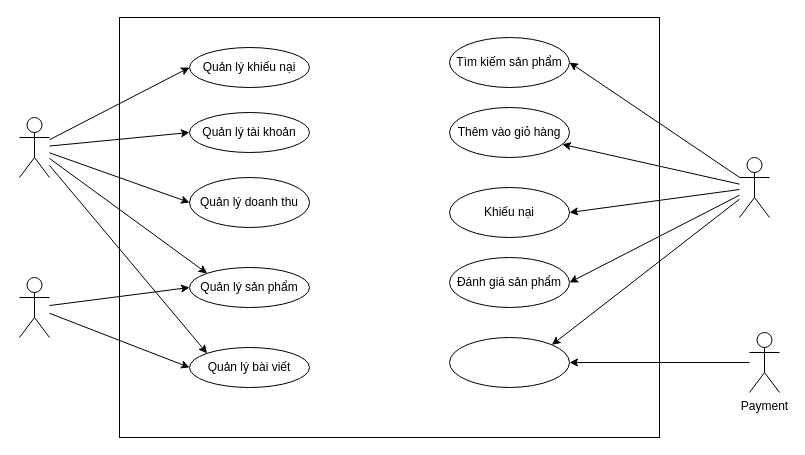
This 805x455 diagram has some shape labels left out. Here are the shapes that lost their labels. From the top down, the box of each, then its label:
(18, 116, 50, 178): Admin
(738, 156, 770, 218): Buyer
(18, 276, 50, 338): Seller
(448, 336, 570, 388): Thanh toán
